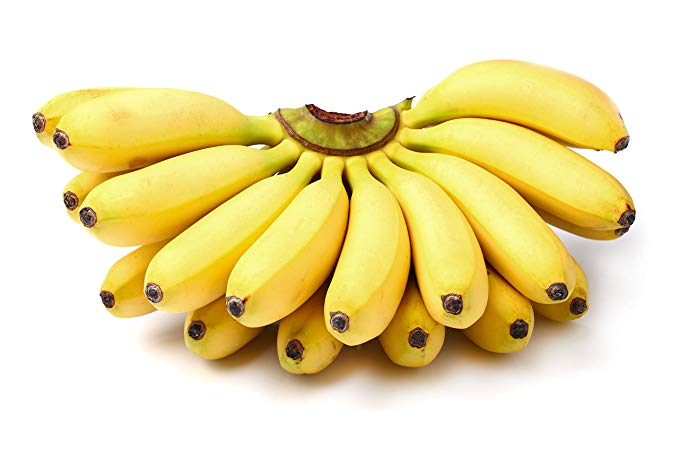banana: (128, 171, 292, 337), (402, 60, 634, 159), (441, 112, 629, 234), (422, 149, 566, 297), (27, 85, 268, 168), (220, 183, 345, 331), (319, 171, 416, 355), (386, 165, 489, 326), (63, 159, 251, 239), (268, 326, 344, 386), (177, 314, 245, 373), (90, 252, 144, 323)
